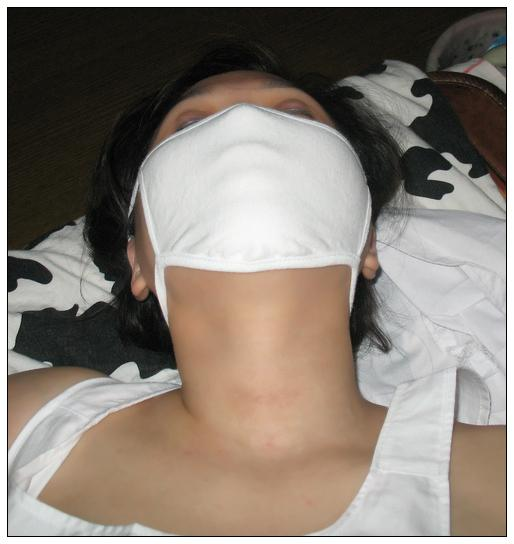OK: (147, 61, 366, 280)
